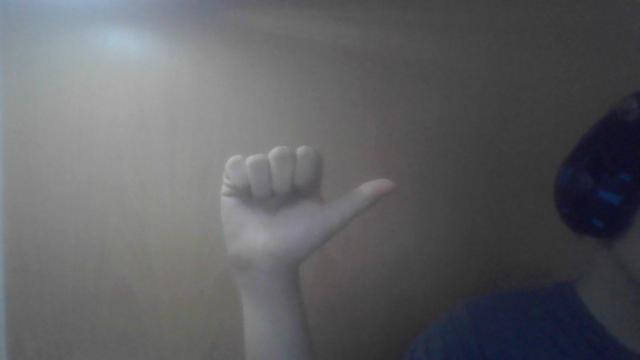left: (211, 138, 409, 274)
